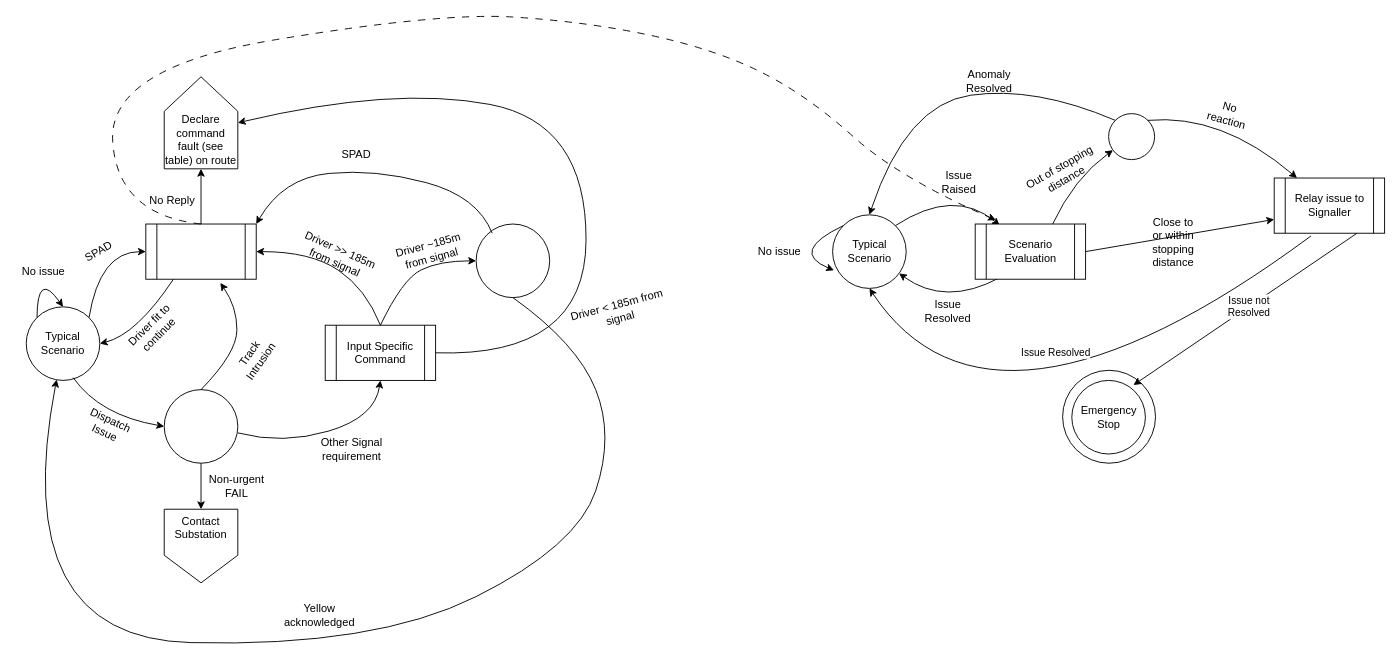
This 1400x660 diagram has some shape labels left out. Each missing label, with the centre of its shape:
"Contact Driver" belongs at [200,251].
"Dispatch Decision" belongs at [200,426].
"Honk" belongs at [1131,136].
"Yellow Light Lock Route" belongs at [512,260].
